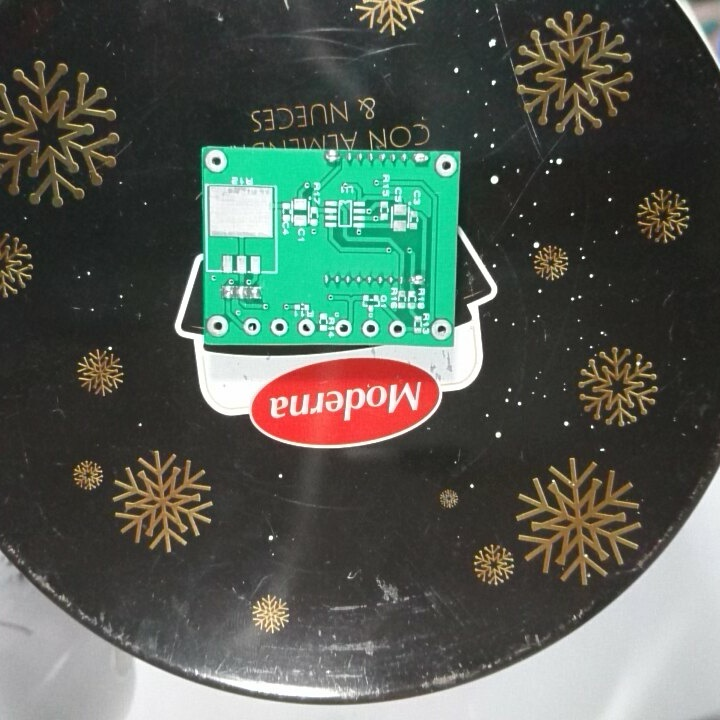F: (203, 146, 230, 175), (205, 312, 231, 339), (434, 152, 458, 178), (428, 318, 454, 342), (241, 314, 264, 338), (333, 317, 355, 340), (296, 316, 317, 340), (386, 319, 408, 340), (270, 315, 289, 339), (361, 318, 380, 340)
P: (409, 272, 428, 289), (322, 149, 342, 165), (411, 151, 430, 167)
